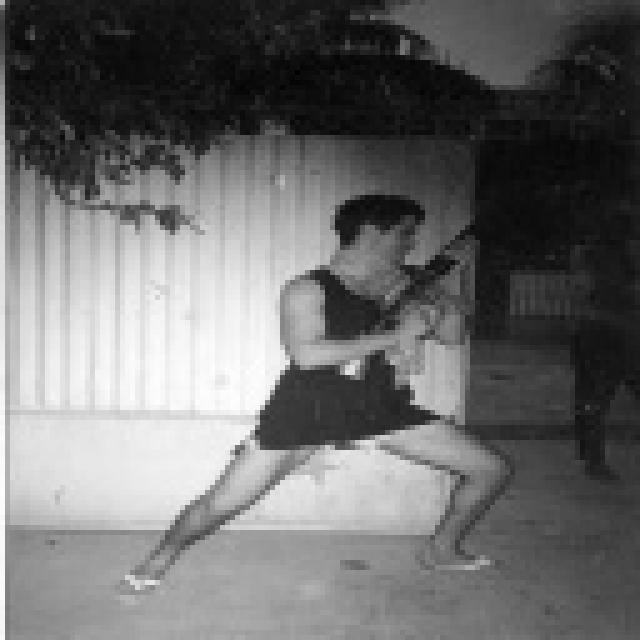Rifle: (332, 199, 542, 394)
